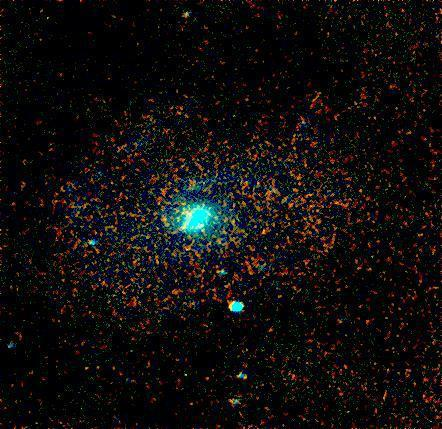star: (175, 199, 205, 229)
